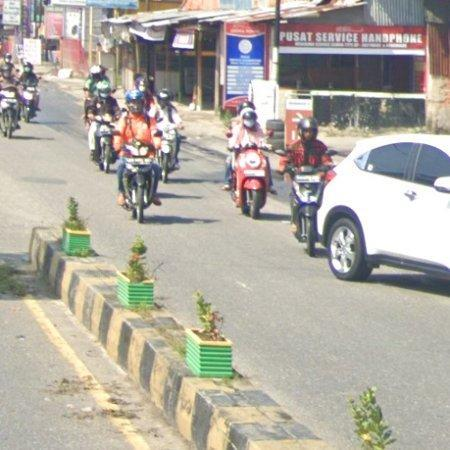motorcycles: (287, 165, 333, 256), (233, 146, 268, 217), (123, 142, 153, 223)
